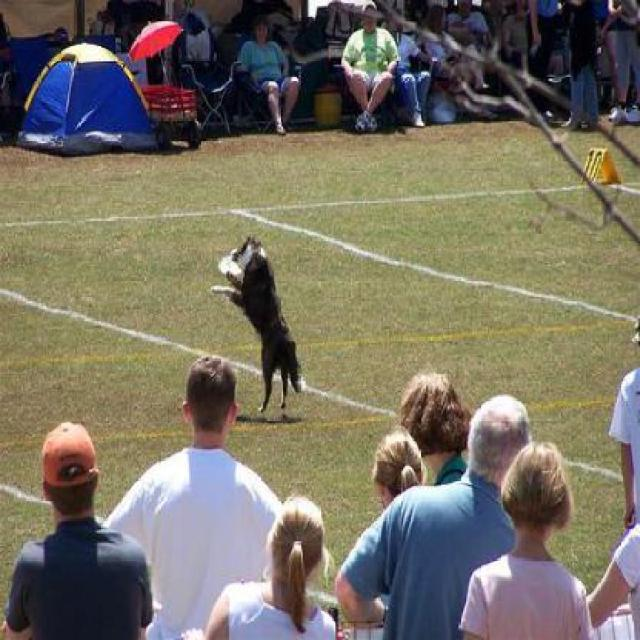Person: (102, 350, 281, 635), (335, 388, 530, 628), (0, 414, 152, 631), (457, 437, 591, 623), (178, 492, 334, 638), (394, 368, 472, 481), (338, 0, 398, 131), (237, 13, 298, 132), (607, 312, 639, 532), (371, 423, 426, 505), (445, 0, 490, 48)
